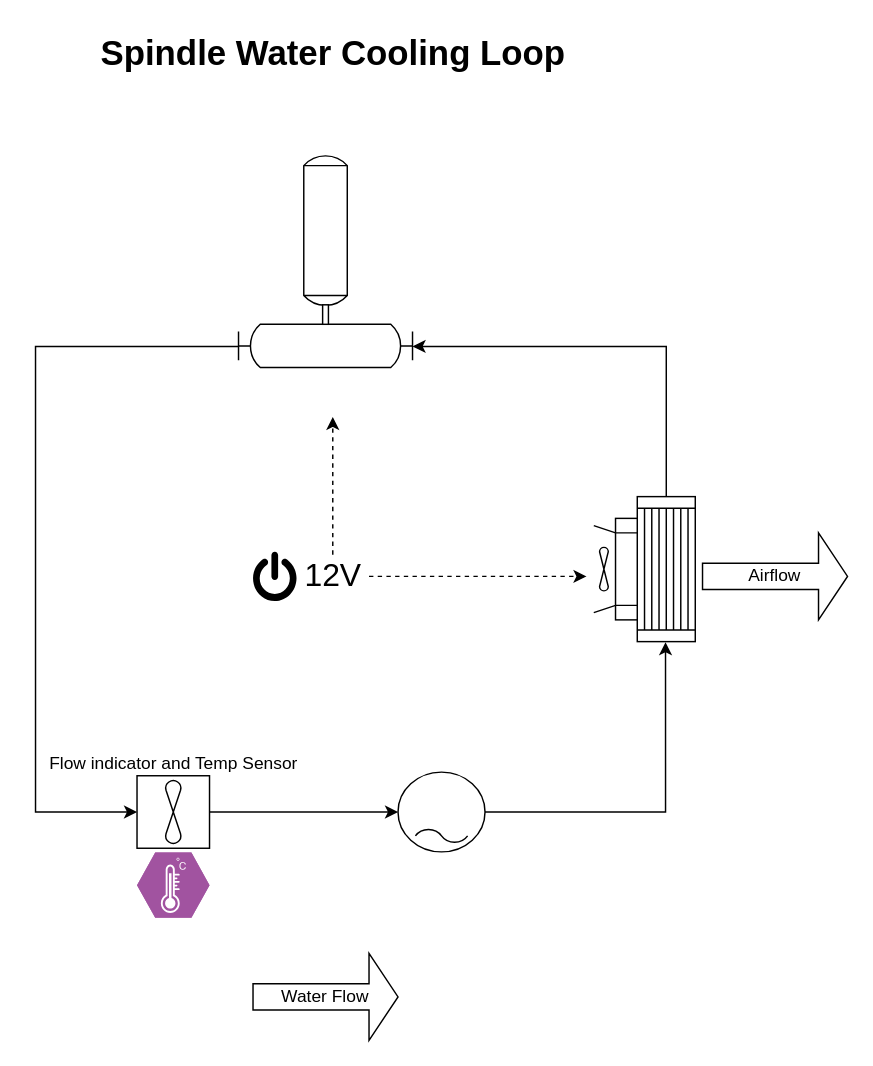
Some shapes in this 873 by 1066 pixel diagram are drawn without their labels. Each missing label, with the centre of its shape:
"PC Cooling Pump & Tank" belongs at (x=325, y=261).
"Spindle" belongs at (x=441, y=811).
